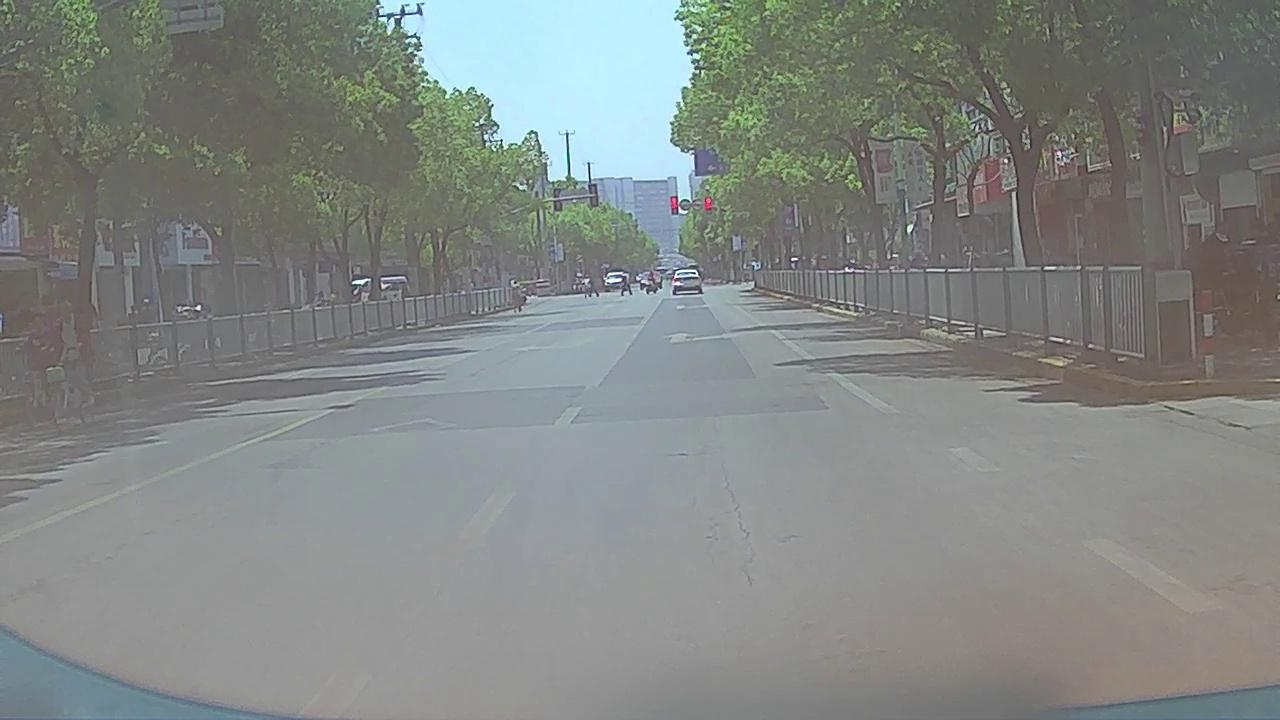traffic_light: (670, 197, 678, 215), (704, 197, 711, 216)
